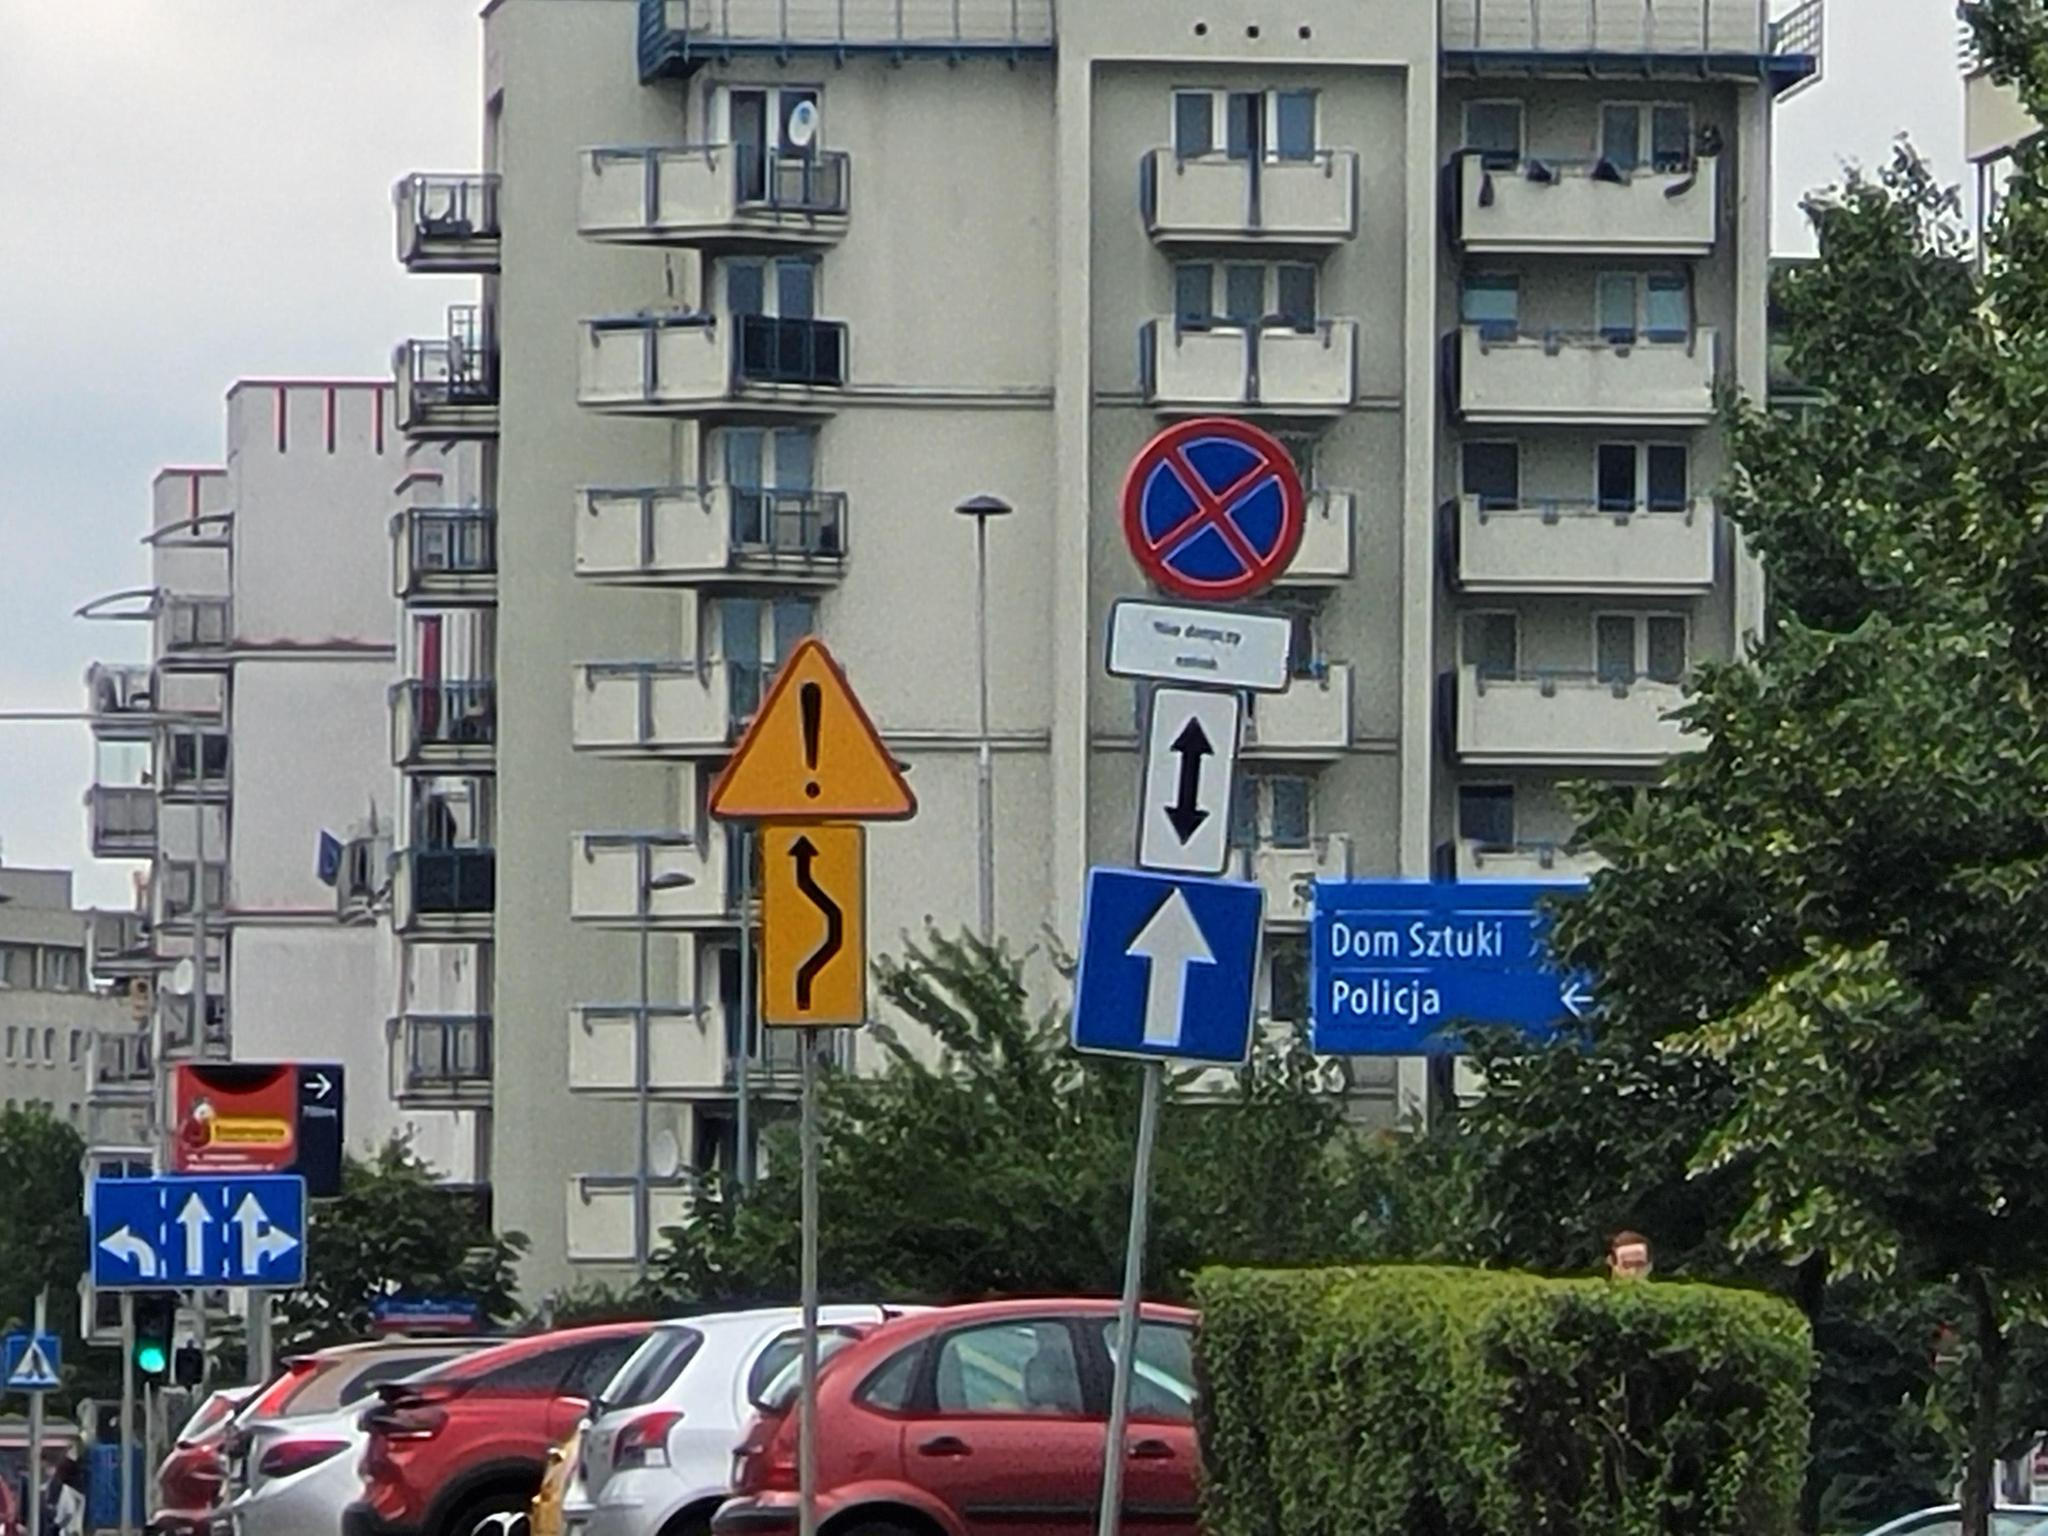information: (1077, 873, 1258, 1065), (6, 1339, 61, 1389)
other: (706, 636, 918, 821), (760, 826, 868, 1028), (95, 1183, 303, 1283), (1147, 689, 1232, 871)
prohibitory: (1121, 415, 1308, 605)
